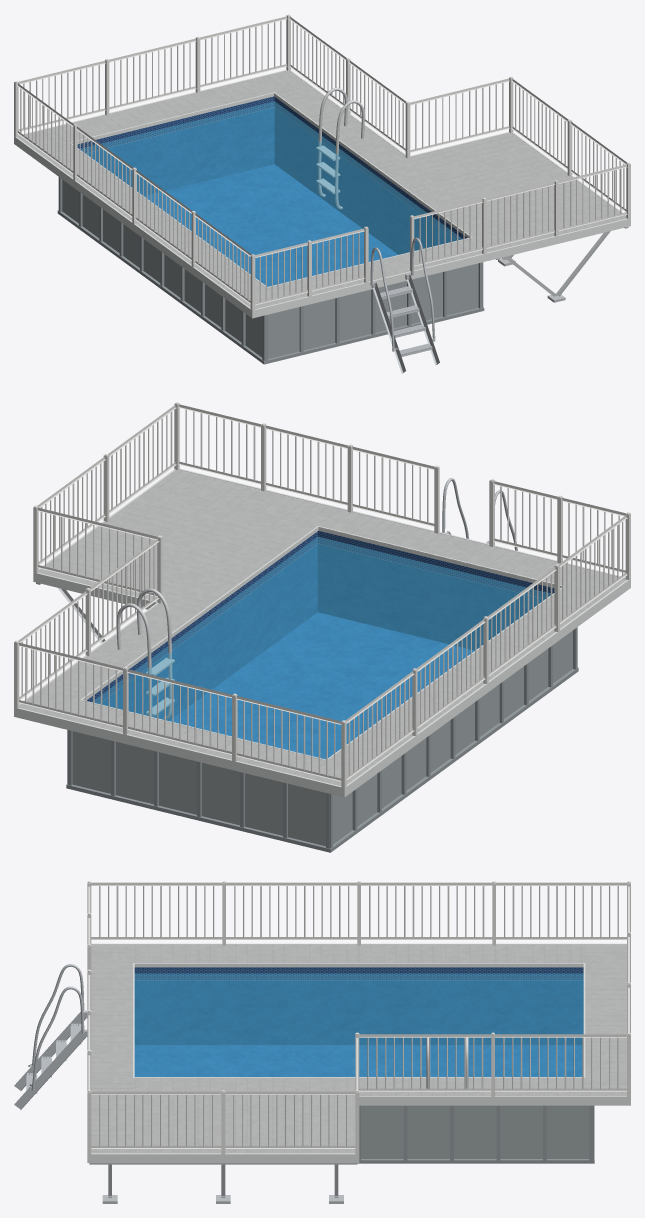
File: kayak-pool-12x20-gray-l-ag-fence.18bd0edeaf.glb
3 views of the same model, one above another, from view 1: azimuth 30°, elevation 25°; view 2: azimuth 150°, elevation 25°; view 3: azimuth 270°, elevation 25° (orthographic). The views are drawn at different scales.
Parts seen in each view (by area): view 1: water, deck, fence, liner_wall, liner_floor, wall, fascia, upright, ladder, steel, stud; view 2: water, deck, fence, liner_wall, liner_floor, wall, fascia, upright, steel, ladder; view 3: water, deck, liner_wall, fence, liner_floor, wall, fascia, ladder, upright, stud.
Part boxes in pixels (x1,y1,x2,y2): water: [80, 101, 462, 286]; deck: [18, 70, 626, 308]; fence: [14, 14, 630, 310]; liner_wall: [77, 96, 466, 254]; liner_floor: [144, 164, 397, 286]; wall: [62, 179, 478, 358]; fascia: [14, 69, 630, 318]; upright: [57, 177, 484, 364]; ladder: [370, 237, 439, 373]; steel: [316, 87, 364, 209]; stud: [496, 227, 628, 302]; water: [92, 537, 550, 759]; deck: [19, 469, 626, 786]; fence: [14, 402, 630, 787]; liner_wall: [87, 530, 554, 720]; liner_floor: [169, 612, 474, 759]; wall: [72, 630, 572, 846]; fascia: [14, 468, 630, 797]; upright: [66, 627, 578, 852]; steel: [116, 588, 174, 719]; ladder: [442, 478, 517, 550]; water: [134, 973, 583, 1076]; deck: [91, 944, 626, 1153]; liner_wall: [134, 967, 583, 1045]; fence: [87, 881, 630, 1154]; liner_floor: [134, 1045, 582, 1076]; wall: [361, 1105, 589, 1158]; fascia: [87, 943, 630, 1162]; ladder: [14, 964, 87, 1109]; upright: [357, 1105, 594, 1163]; stud: [89, 1163, 357, 1203].
Size of the model in its own units: 6.71 by 2.15 by 8.3.
Materials: 11 (3 with a texture image).
